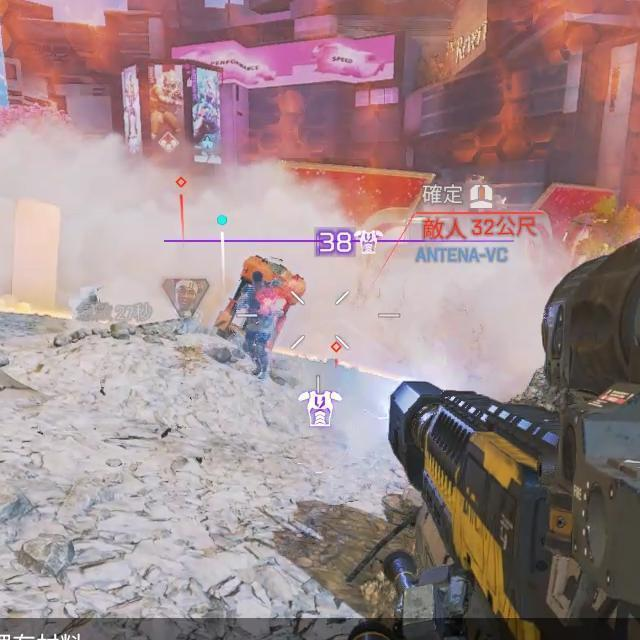avatar: (236, 269, 282, 380)
